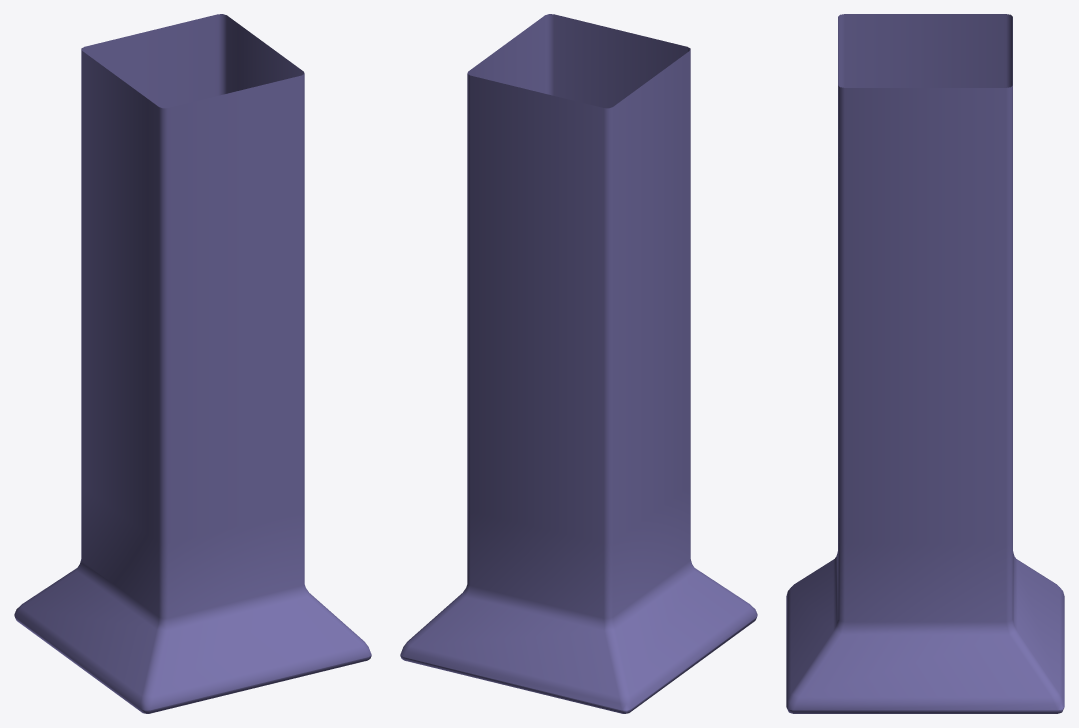
File: chute.glb
3 renders of one model, left to right at view 1: azimuth 30°, elevation 25°; view 2: azimuth 150°, elevation 25°; view 3: azimuth 270°, elevation 25°, orthographic. The views are drawn at different scales.
Parts seen in each view (by area): view 1: Cube; view 2: Cube; view 3: Cube.
Boxes of the visible parts, x1,y1,x2,y2 form: Cube: [14, 14, 371, 713]; Cube: [400, 14, 757, 713]; Cube: [786, 14, 1064, 713].
Bounding box in the file's own units: 1.75 × 4.22 × 1.75.
